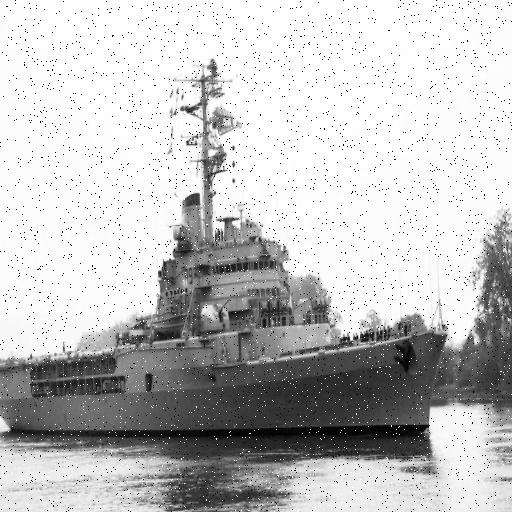Portanaves: (1, 55, 452, 446)
